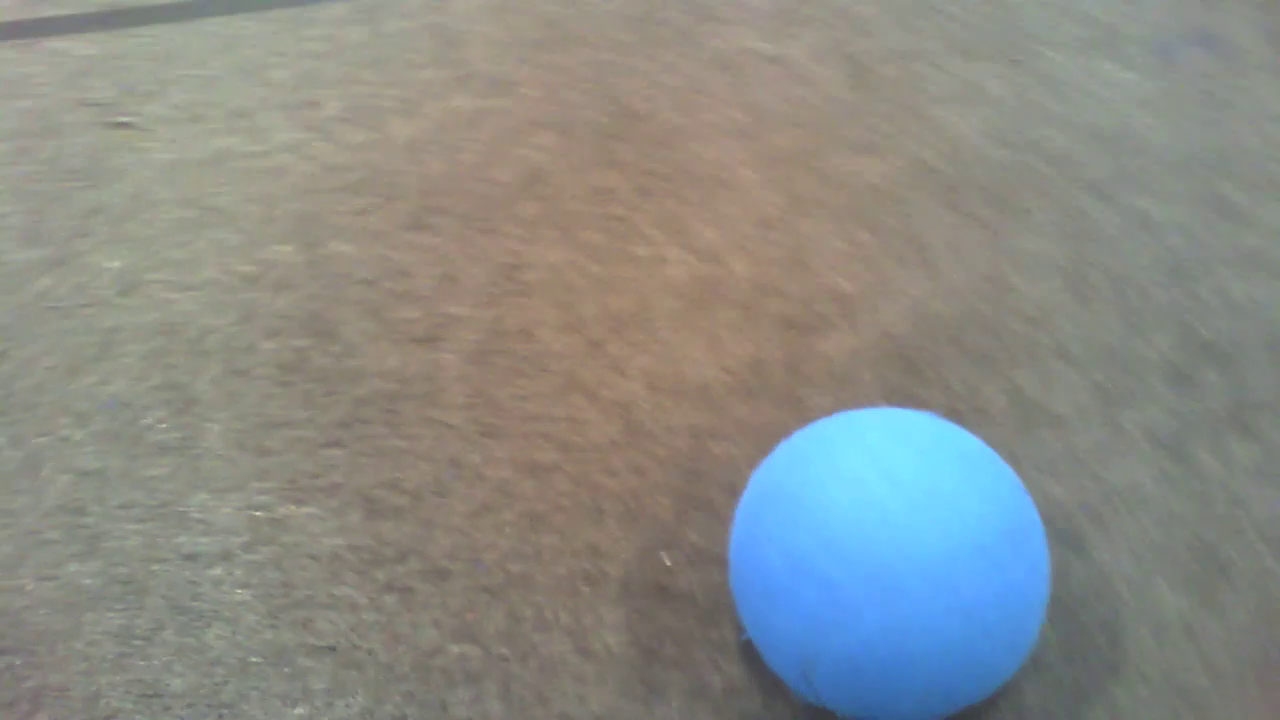blue_cargo: (731, 405, 1075, 720)
